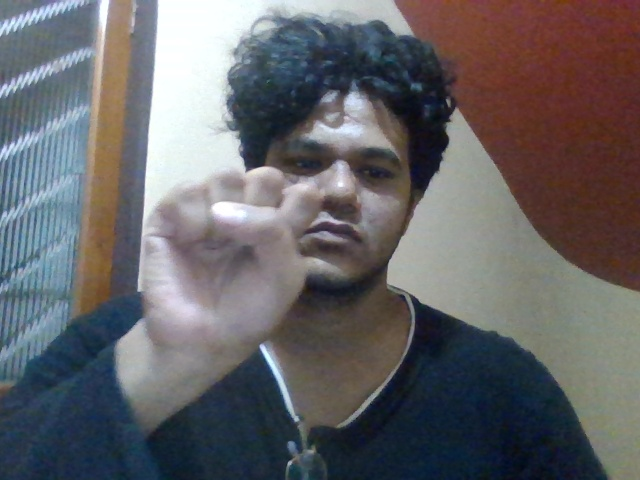no: (129, 173, 310, 343)
